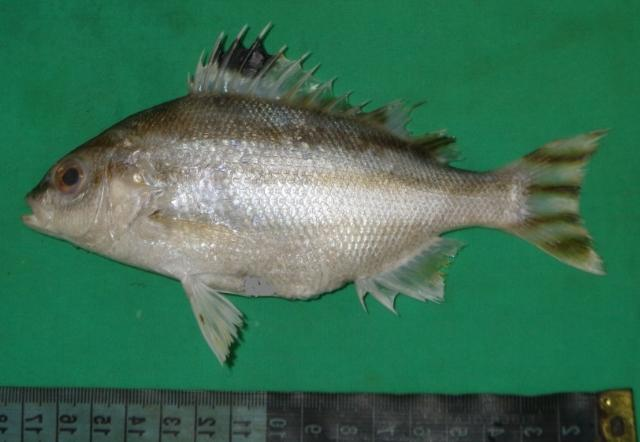Mulut: (15, 171, 56, 248)
Sirip Anal: (352, 227, 464, 317)
Sirip Dada: (138, 199, 268, 260)
Sirip Ekor: (491, 109, 619, 282)
Sirip Perut: (165, 259, 258, 371)
Sirip Punggung: (182, 18, 466, 178)
